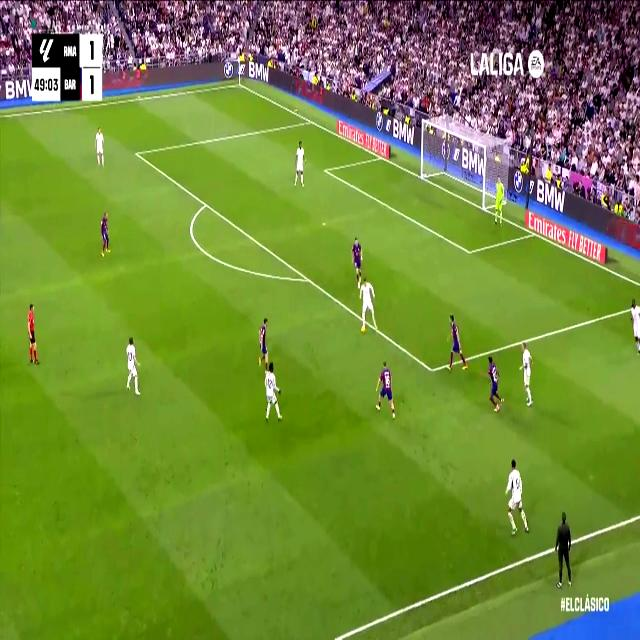bigarea_bottom_inner: (426, 359, 436, 381)
bigarea_top_inner: (134, 146, 140, 160)
bottom_arc_area_intersection: (302, 269, 312, 288)
corner: (235, 78, 243, 88)
smallarea_bottom_inner: (465, 243, 473, 261)
smallarea_top_inner: (324, 164, 328, 176)
top_arc_area_intersection: (202, 196, 210, 212)
